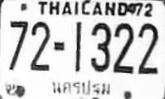1: (74, 21, 82, 72)
2: (137, 22, 158, 70), (30, 20, 50, 70), (113, 22, 133, 70)
3: (90, 22, 110, 71)
7: (8, 20, 28, 70)
NPT: (49, 77, 113, 99)
